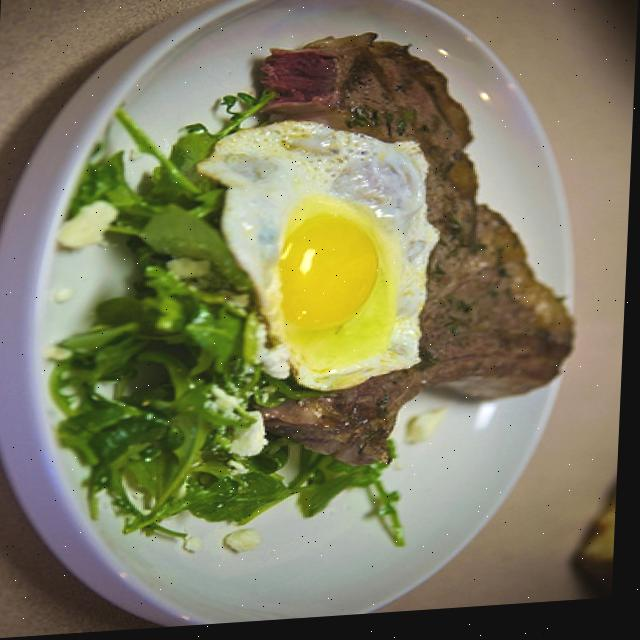鸡蛋料理: (184, 110, 462, 408)
